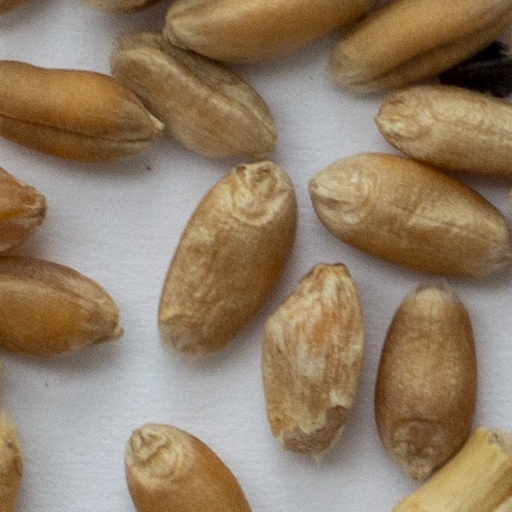Fallopia-Сonvolvulus-poly: (440, 55, 511, 95)
Peel-poly: (396, 432, 511, 511)
